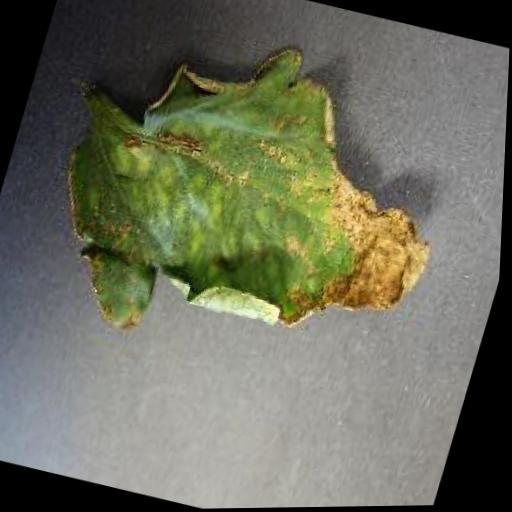Bacterial Spot: (2, 0, 491, 408)
